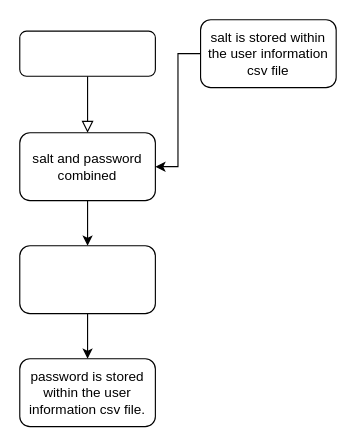
Image size: 356x446. Some labels were removed from this diagram. The shapes that lost their labels are listed below. From the top down, each one's centre as x and y in pixels, then its label:
At (87,53): "password input from text input".
At (87,279): "combined string is hashed".
